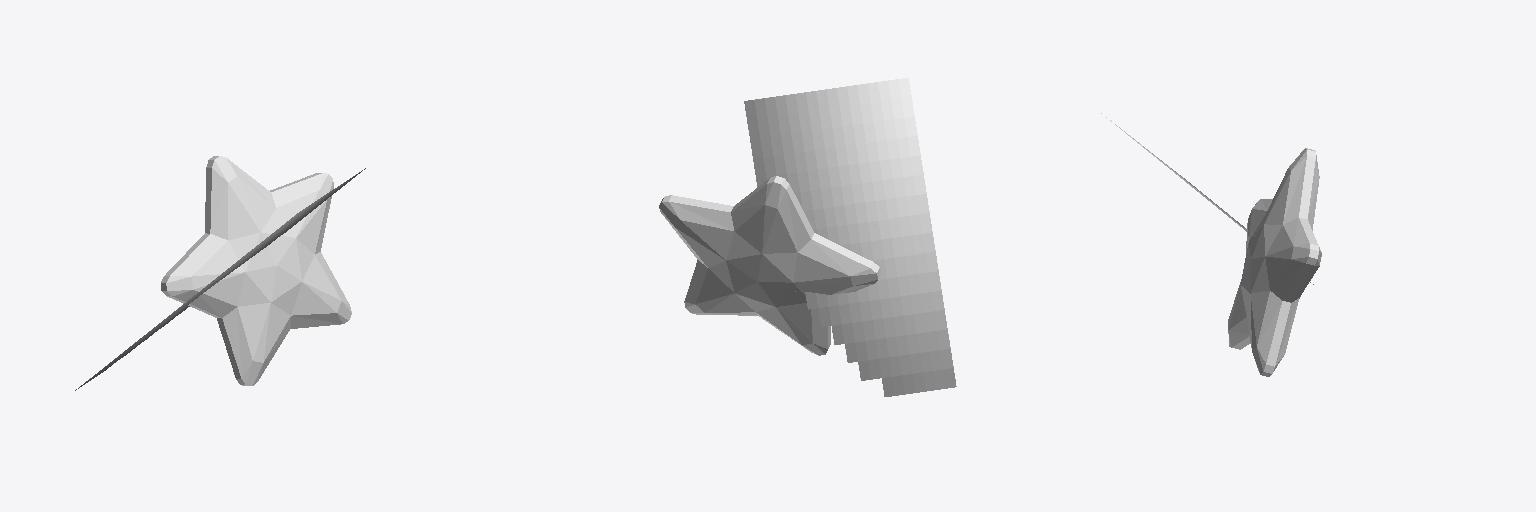
3 renders of one model, left to right at view 1: azimuth 30°, elevation 25°; view 2: azimuth 150°, elevation 25°; view 3: azimuth 270°, elevation 25°, orthographic.
Visible parts, largest first — view 1: polygon1, polygon0; view 2: polygon0, polygon1; view 3: polygon1.
Boxes of the visible parts, box(x1,y1,x2,y2) form: polygon1: box(161, 156, 351, 385); polygon0: box(75, 168, 365, 390); polygon0: box(744, 78, 956, 396); polygon1: box(659, 176, 880, 355); polygon1: box(1228, 148, 1321, 376).
Size of the model in its own units: 19.58 by 12.41 by 16.8.
Materials: 2 (1 with a texture image).